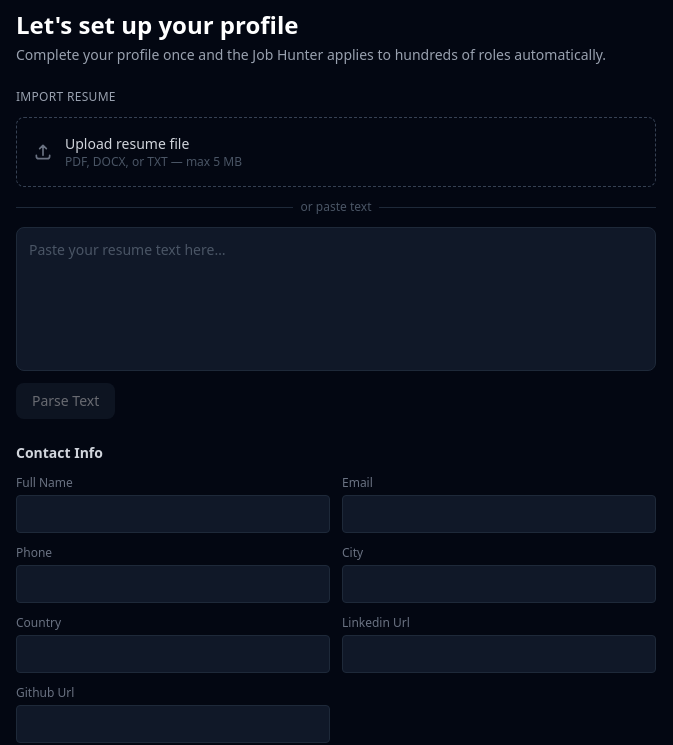
it: ProfileOnboarding › parse button enabled after typing in textarea
The width and height of the screenshot is (673, 745).
In the text box with placeholder "Paste your resume text here…": (336, 299) [16, 227, 656, 371], type "My resume"
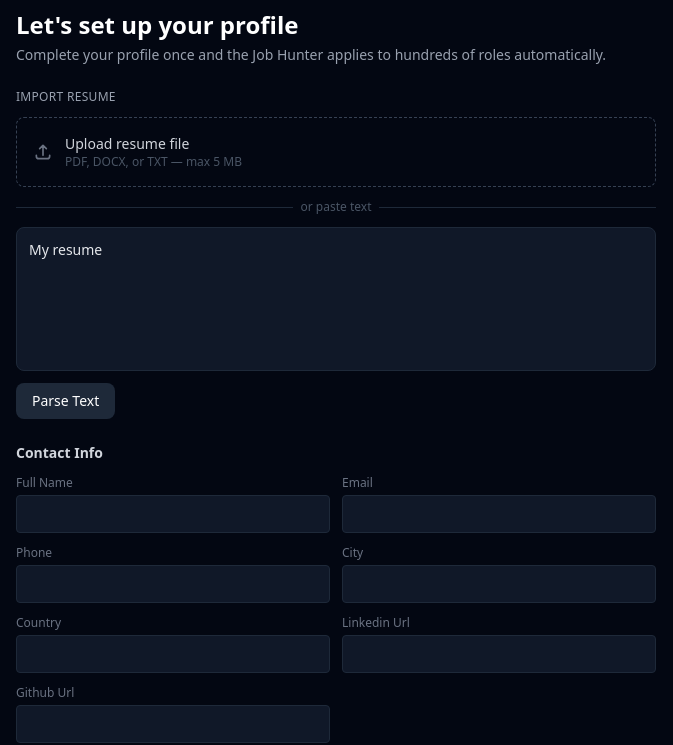
Now the button "Parse Text" is enabled, box [16, 383, 115, 419]
